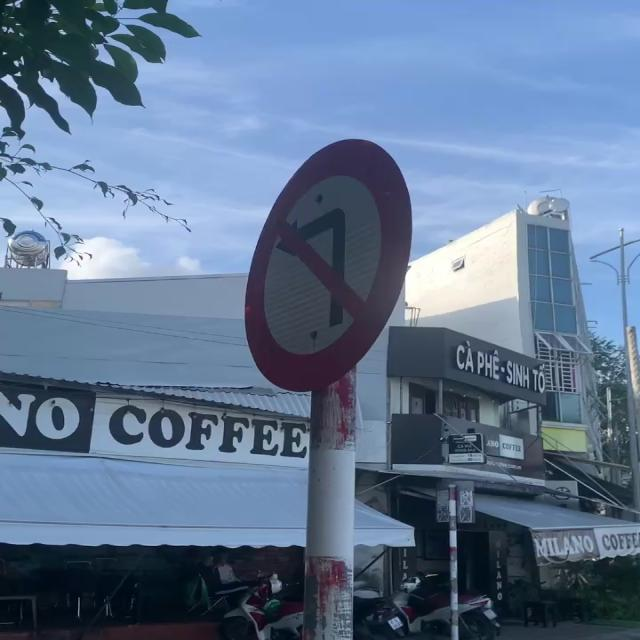Cam_Re_Trai: (238, 138, 414, 390)
